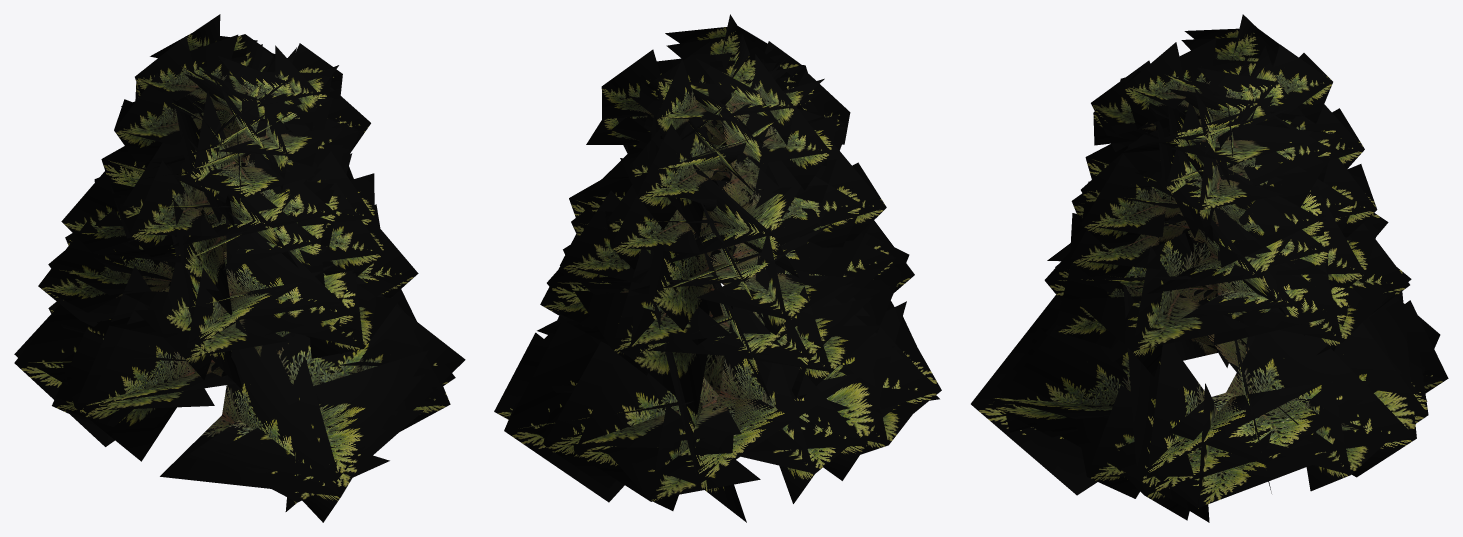
The model's file is leaves.glb.
The picture shows the model from 3 angles, left to right: view 1: azimuth 30°, elevation 25°; view 2: azimuth 150°, elevation 25°; view 3: azimuth 270°, elevation 25°; orthographic projection. The views are drawn at different scales.
Parts seen in each view (by area): view 1: leaves; view 2: leaves; view 3: leaves.
Boxes of the visible parts, x1,y1,x2,y2 form: leaves: (14, 14, 465, 522); leaves: (494, 14, 941, 522); leaves: (971, 14, 1448, 522).
Size of the model in its own units: 22.61 by 25.47 by 24.31.
1 material, 1 textured.
